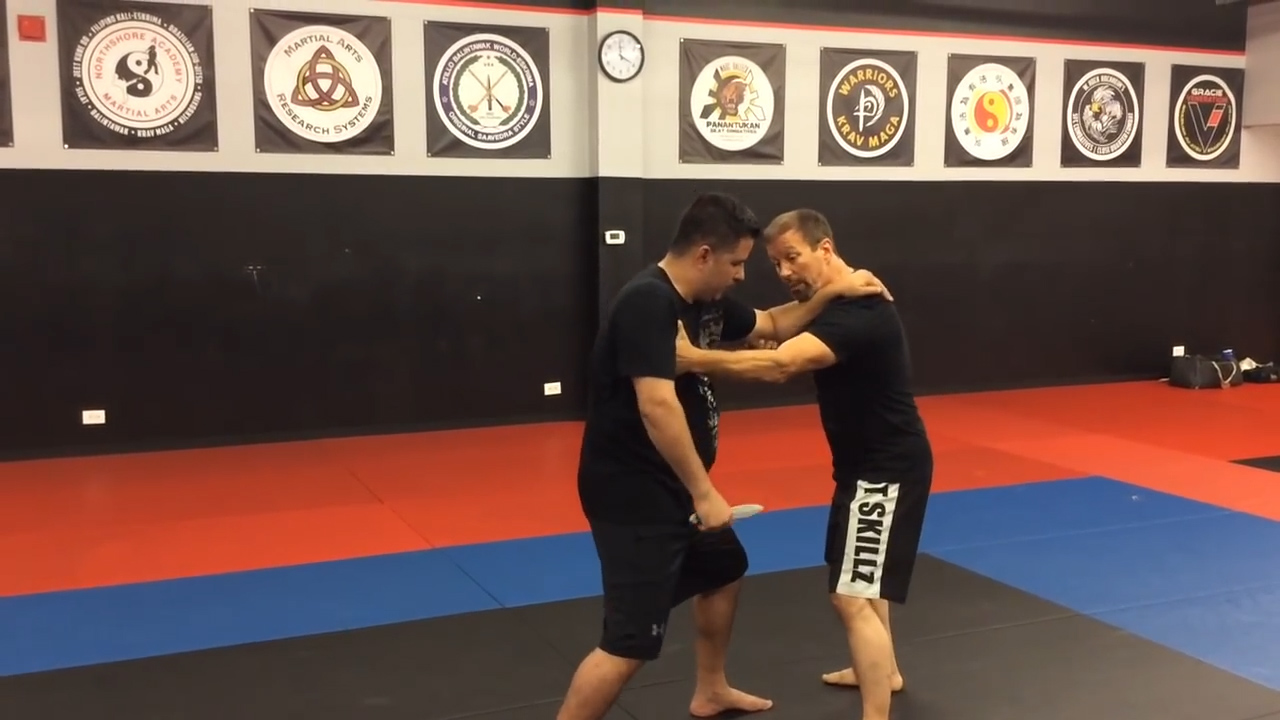knife: (688, 496, 768, 533)
